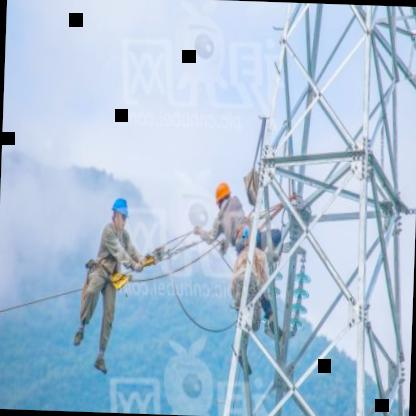helmet: (108, 191, 132, 233), (212, 178, 234, 212), (240, 220, 258, 250)
